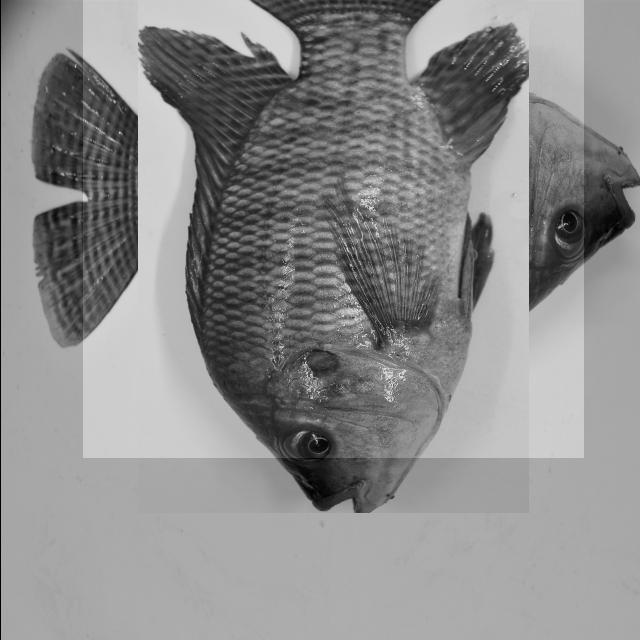Healthy Fish: (82, 0, 583, 458)
